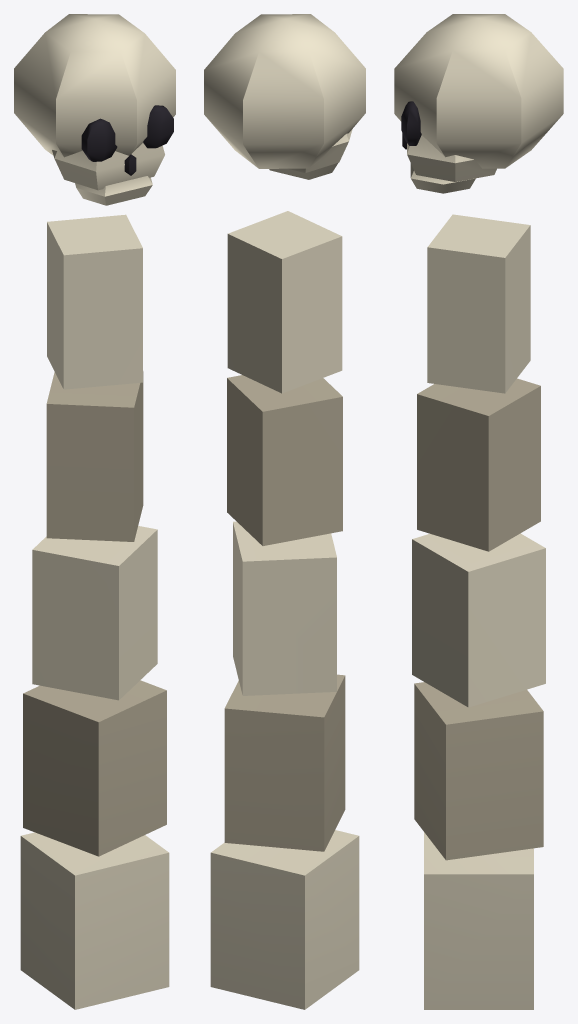
File: fence_bone_post.glb
3 renders of one model, left to right at view 1: azimuth 30°, elevation 25°; view 2: azimuth 150°, elevation 25°; view 3: azimuth 270°, elevation 25°, orthographic.
Parts seen in each view (by area): view 1: fence_bone_post; view 2: fence_bone_post; view 3: fence_bone_post.
Part boxes in pixels (bbox=[...]): fence_bone_post: bbox=[14, 14, 175, 1009]; fence_bone_post: bbox=[204, 14, 365, 1009]; fence_bone_post: bbox=[394, 14, 563, 1009].
Size of the model in its own units: 0.14 by 1.07 by 0.1698.
